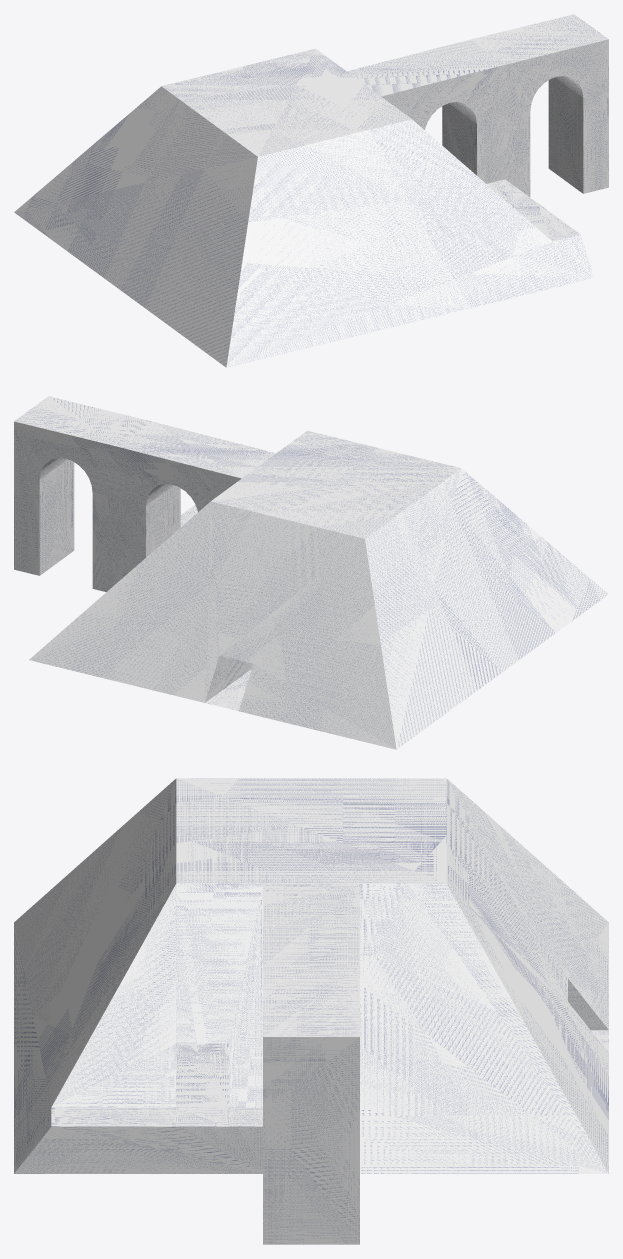
The picture shows the model from 3 angles, top to bottom: view 1: azimuth 30°, elevation 25°; view 2: azimuth 150°, elevation 25°; view 3: azimuth 270°, elevation 25°; orthographic projection. The views are drawn at different scales.
Parts seen in each view (by area): view 1: Model; view 2: Model; view 3: Model.
Part boxes in pixels (x1,y1,x2,y2): Model: [14, 14, 608, 367]; Model: [14, 396, 608, 749]; Model: [14, 778, 608, 1244].
Bounding box in the file's own units: 24.53 × 7.37 × 19.14.
